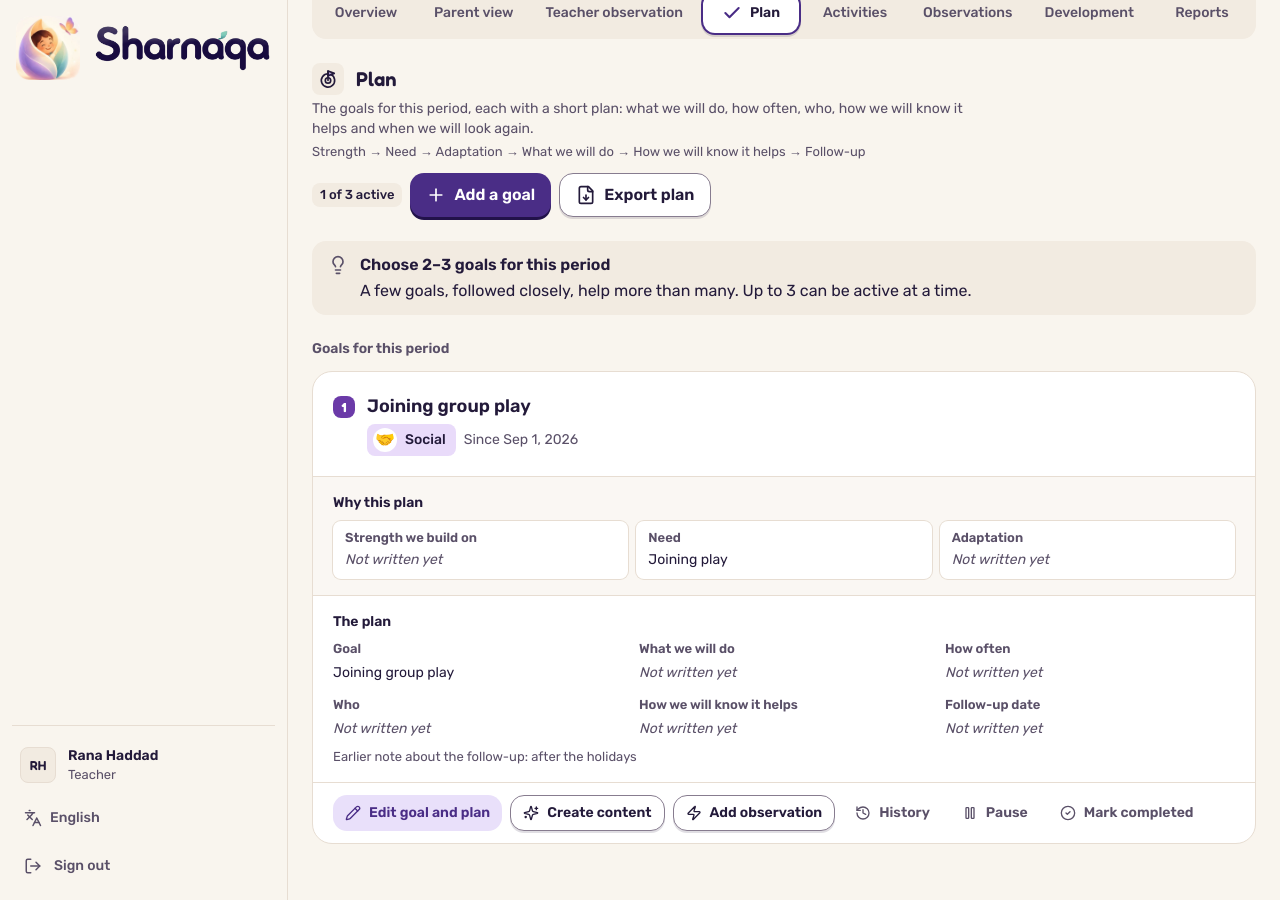
Test: Plan tab › edits all plan columns, including how often, who and the follow-up date
(page scrolled)
Expected: the text "Earlier note about the follow-up: after the holidays" is shown, [333, 749, 637, 764]
Click the button "Edit goal and plan": (418, 813) [333, 795, 502, 831]
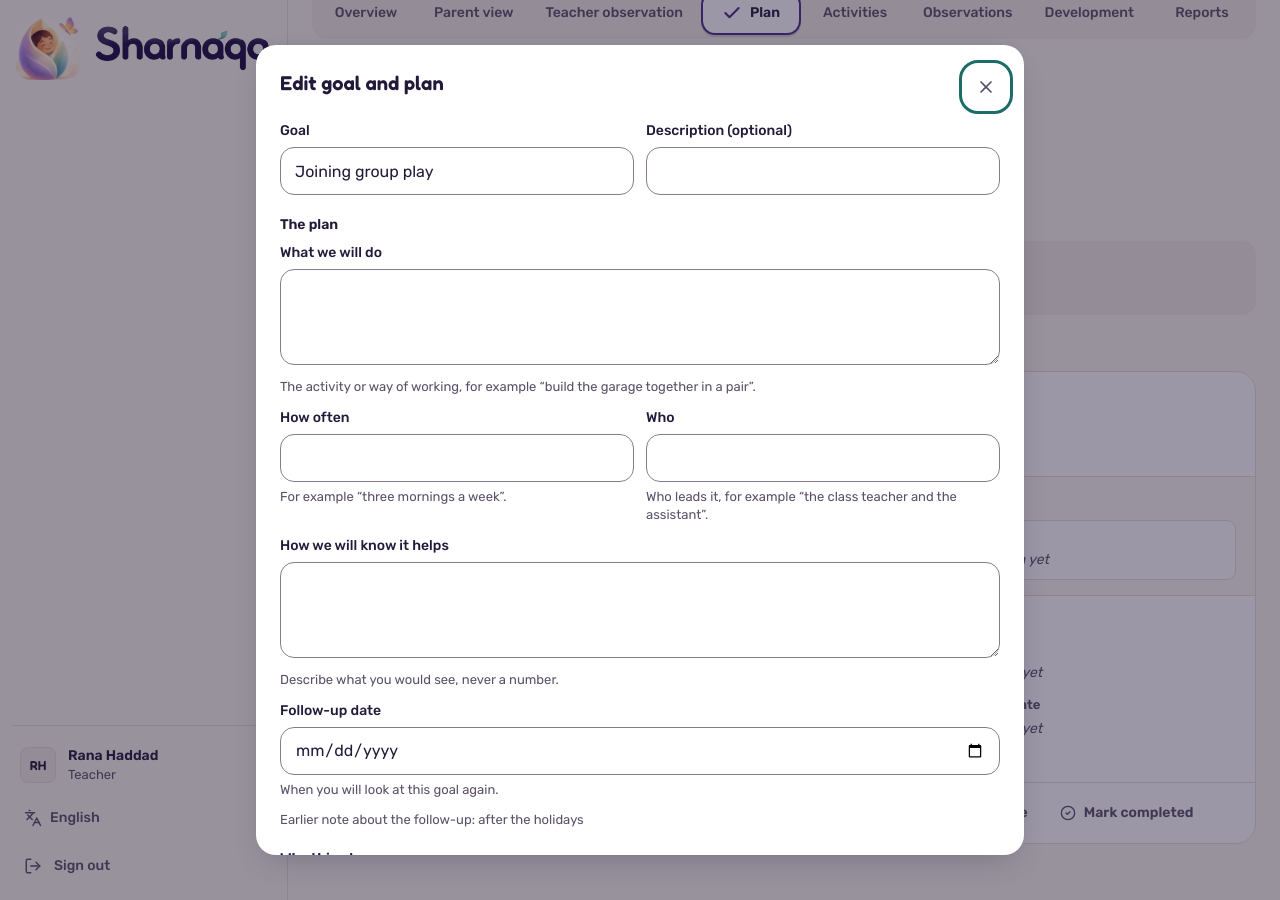
In the field labelled "How often": (457, 458) [280, 434, 634, 482], type "Daily"
In the field labelled "Who": (823, 458) [646, 434, 1000, 482], type "The class teacher"
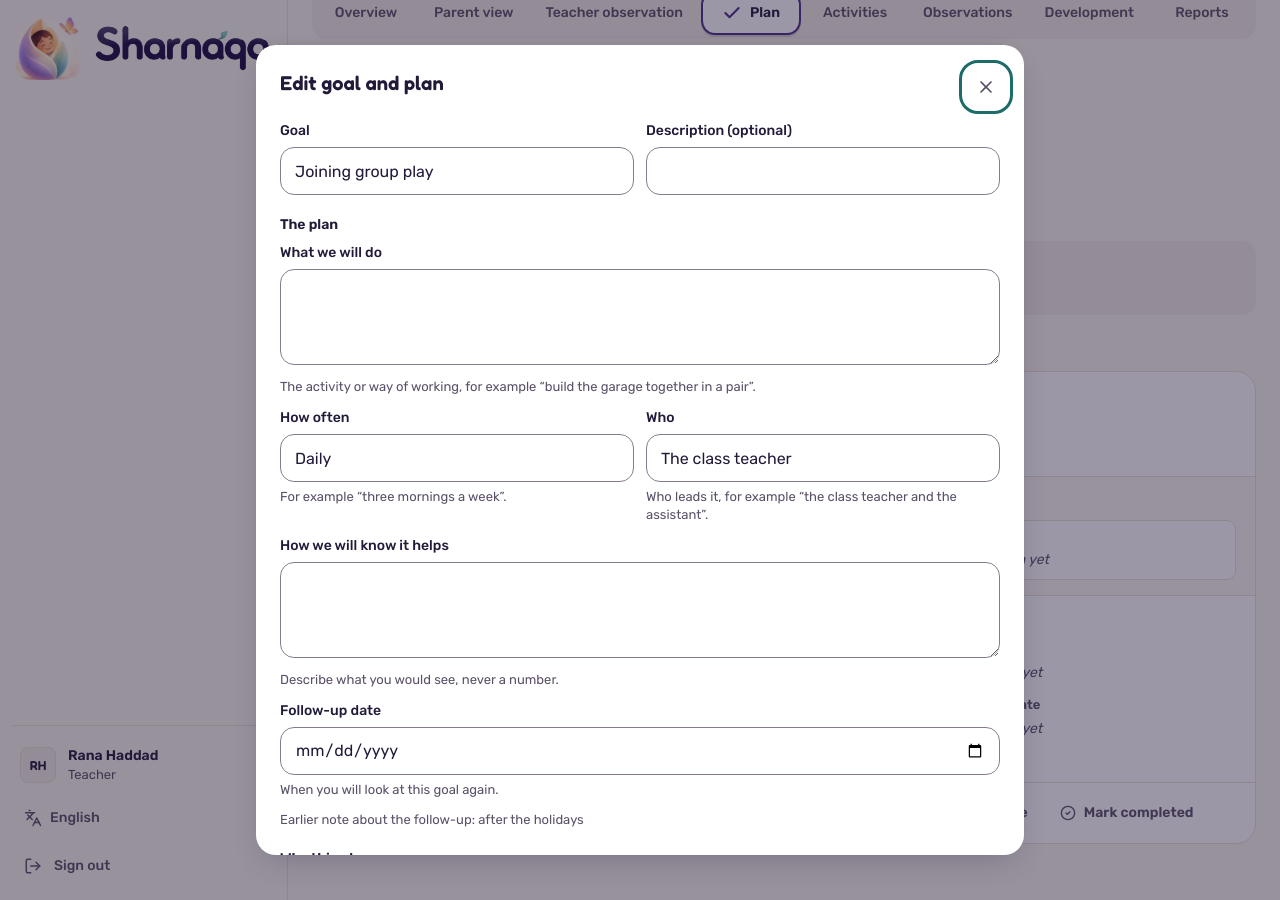
In the date field labelled "Follow-up date": (640, 751) [280, 727, 1000, 775], type "2026-12-01"
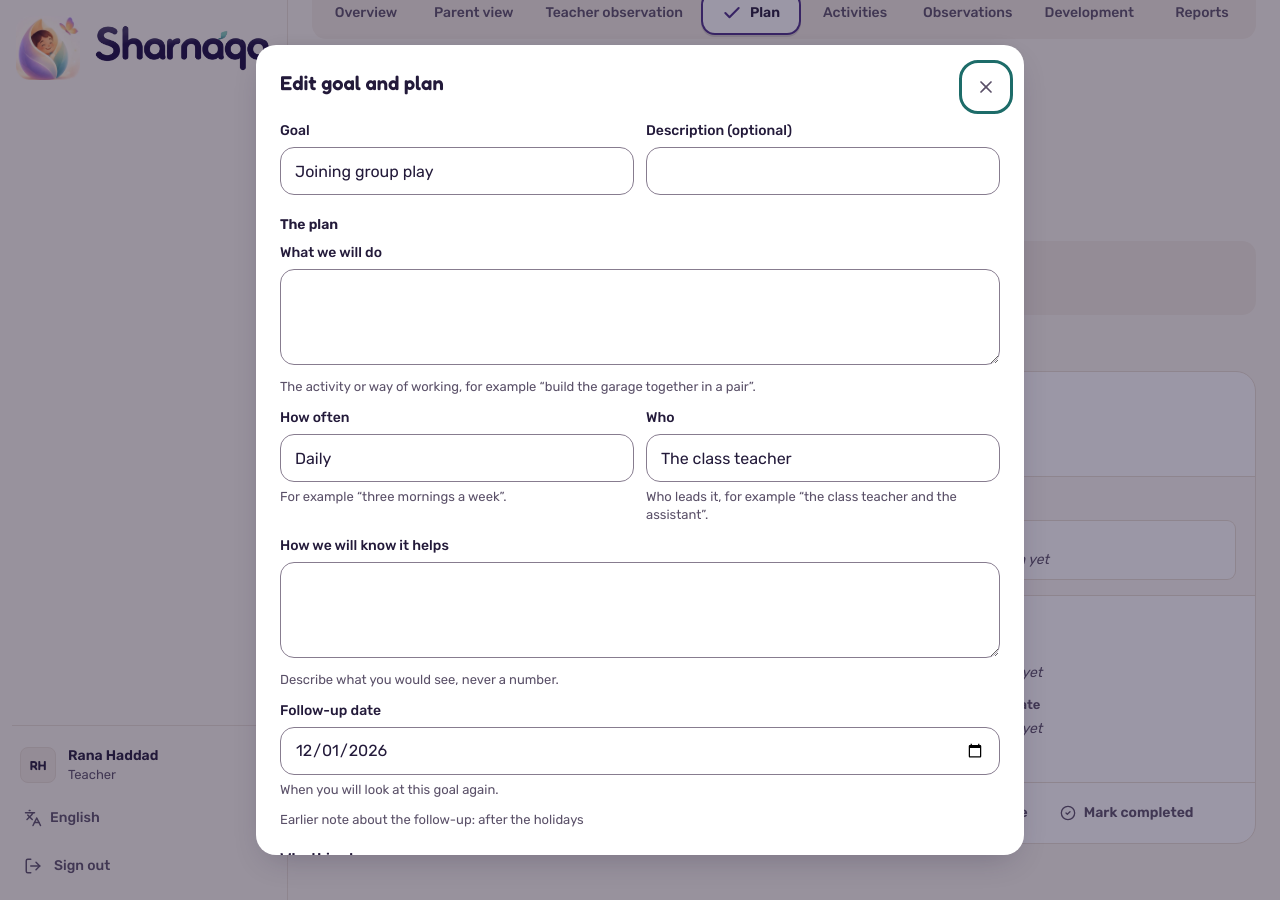
In the text box labelled "What we will do": (640, 317) [280, 269, 1000, 365], type "Build together"
(page scrolled)
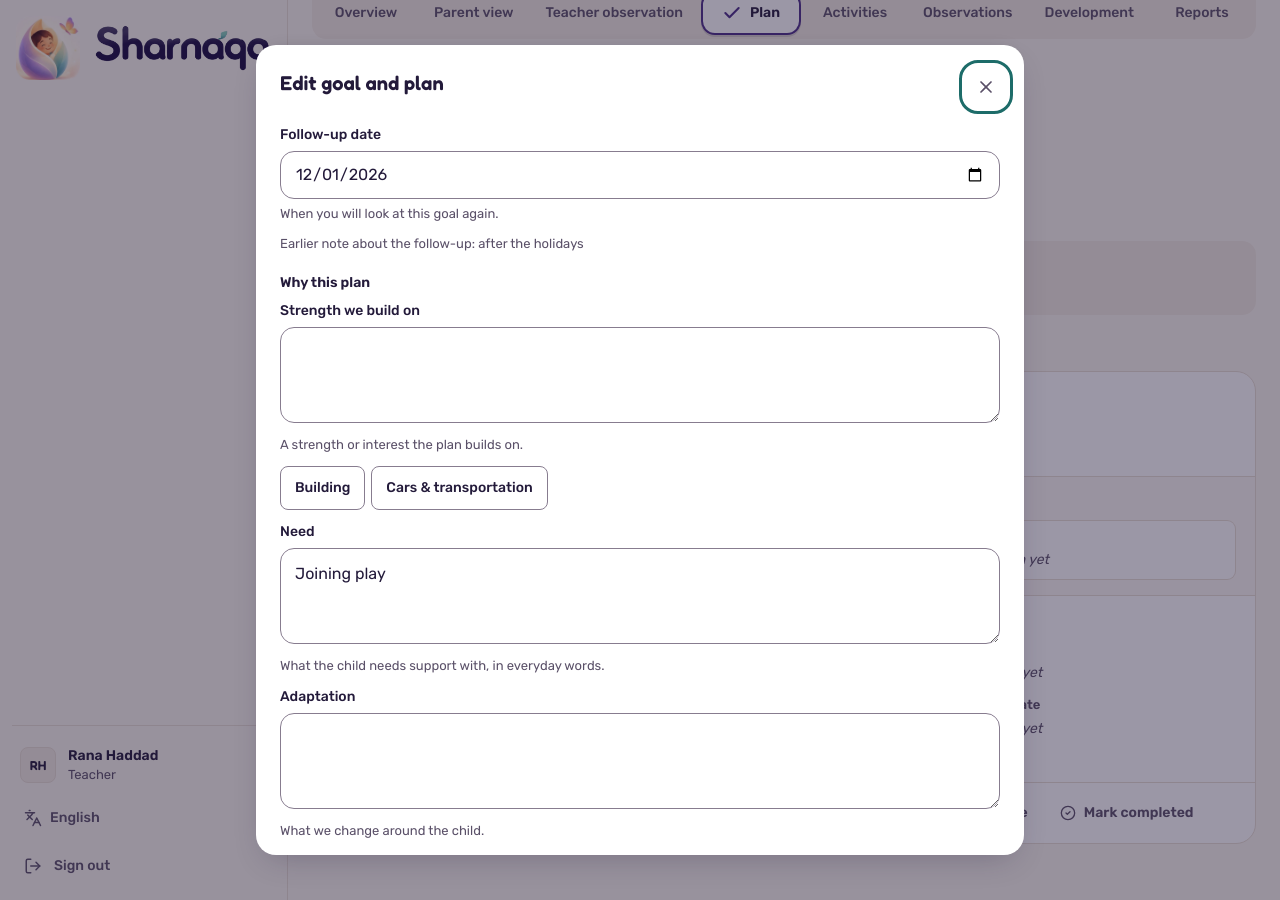
Click the button "Building": (323, 488) [280, 466, 365, 510]
(page scrolled)
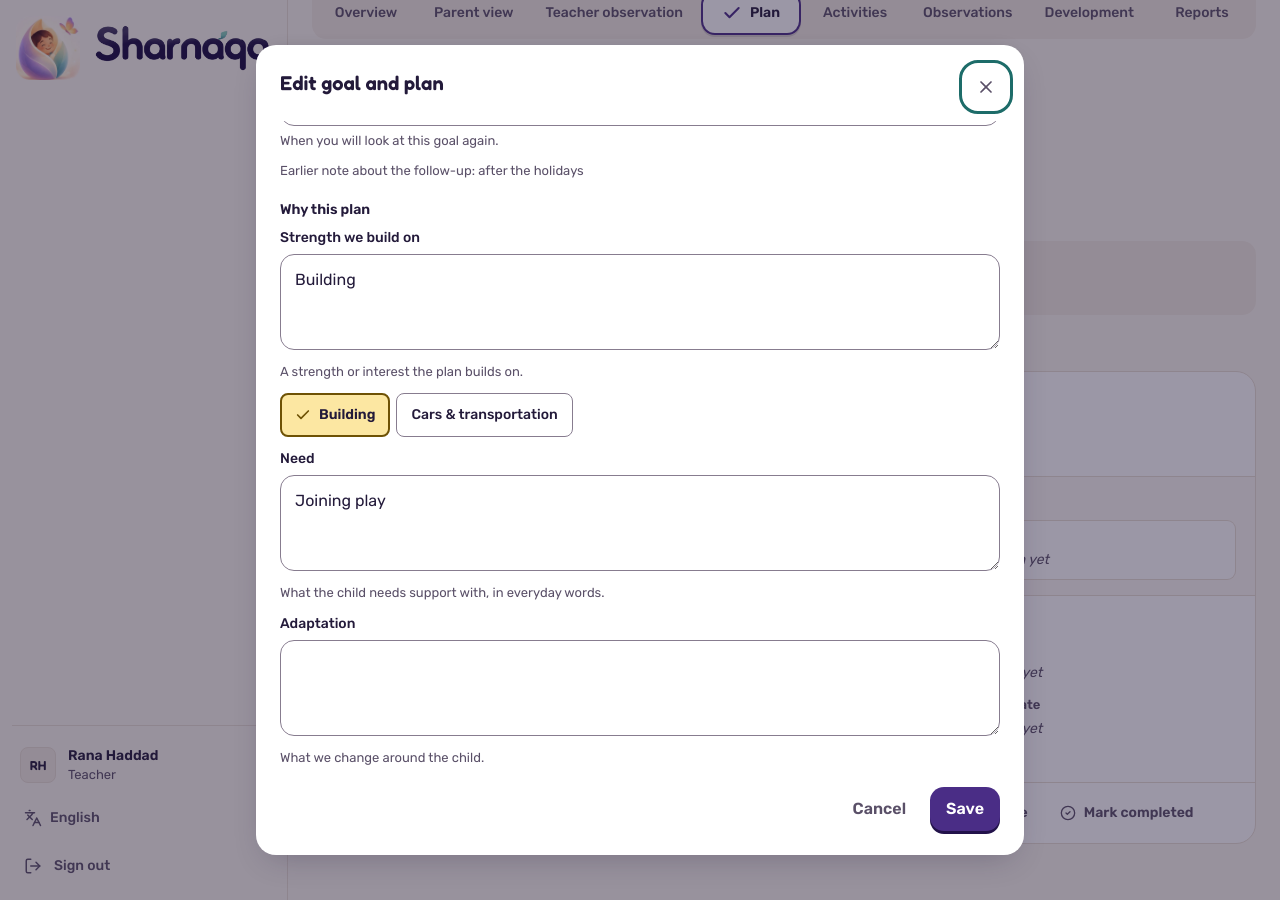
Click the button "Save": (965, 809) [930, 787, 1000, 831]
(page scrolled)
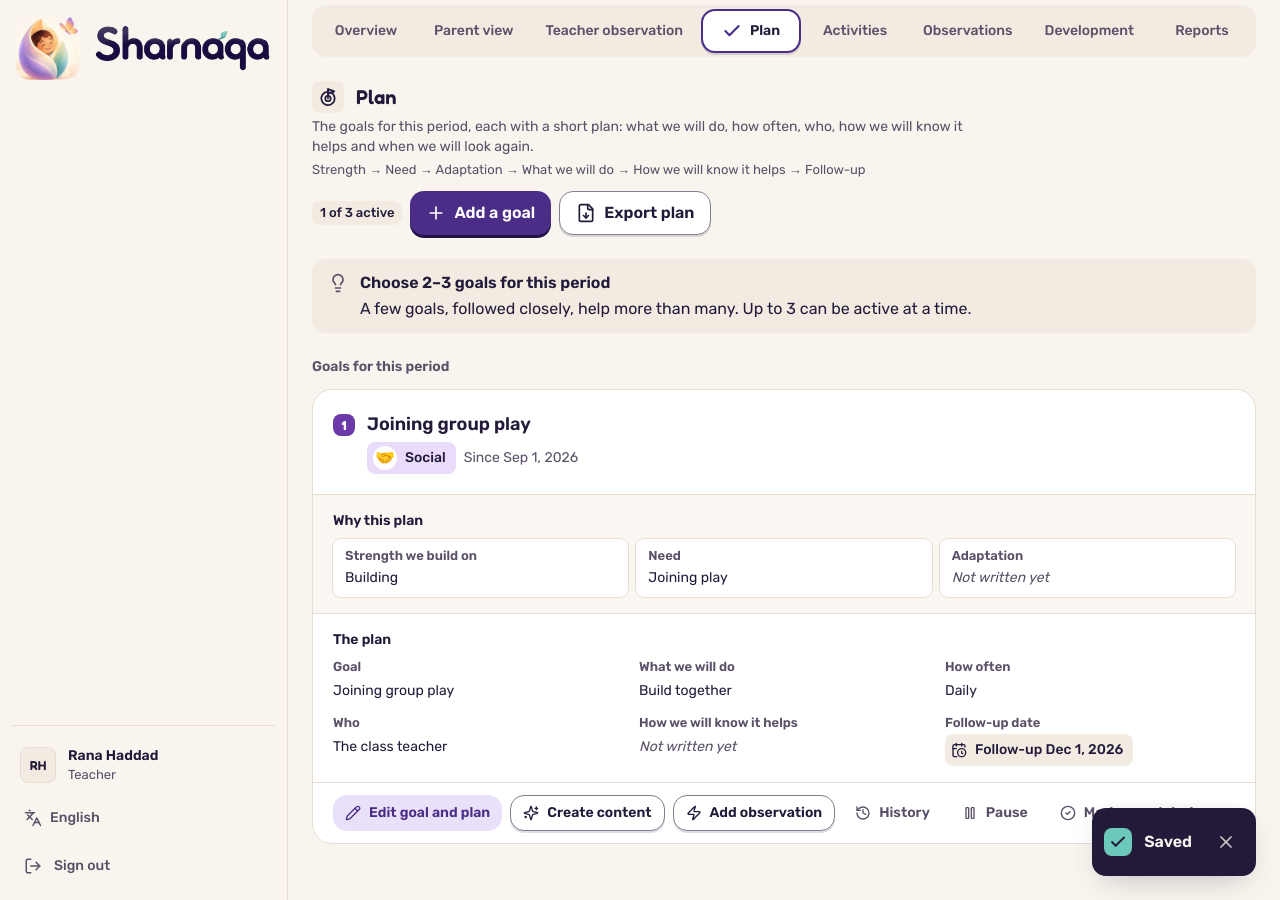
Expected: the element with test id "plan-col-frequency" shows "Daily", [945, 682, 977, 699]
